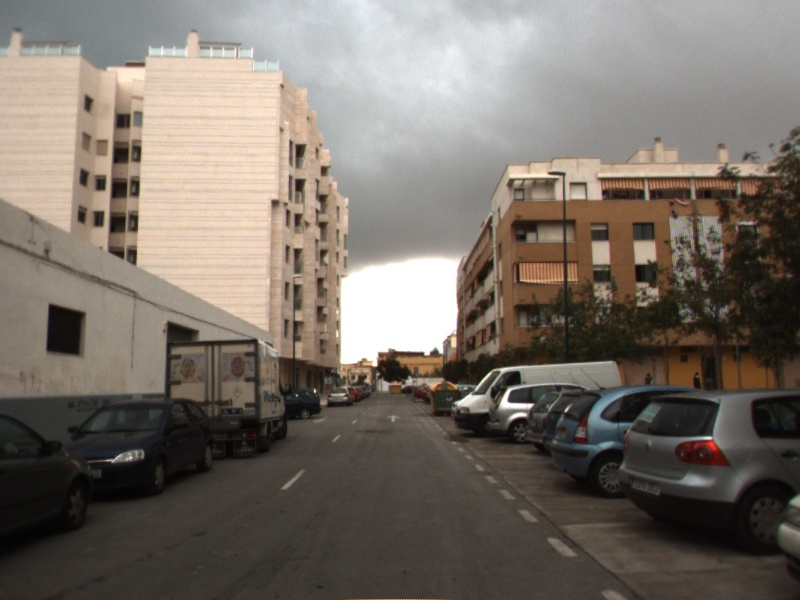STRAIGHT: (384, 413, 404, 424)
